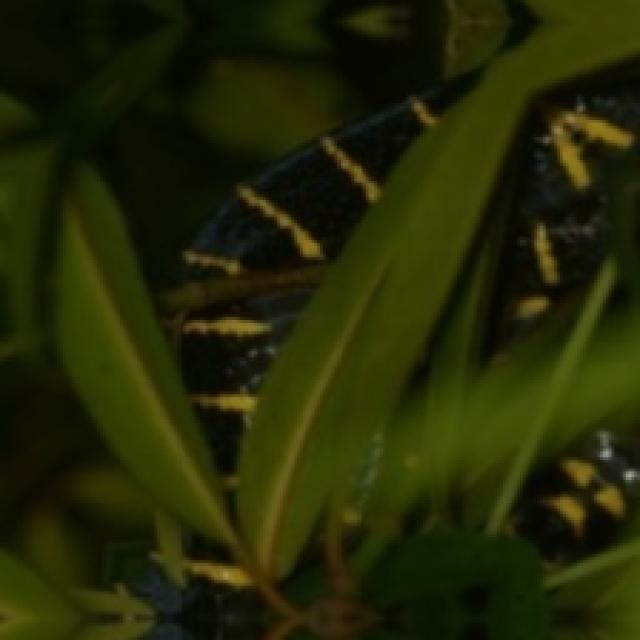mangrove cat snake: (490, 71, 640, 349), (189, 99, 425, 270), (168, 288, 309, 506), (514, 448, 630, 561)
